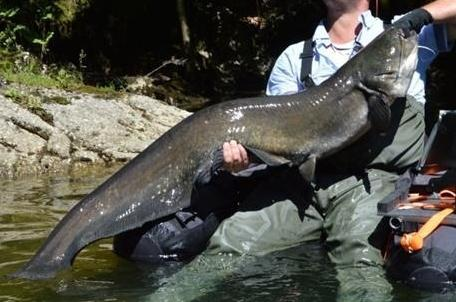Catfish: (17, 24, 448, 285)
